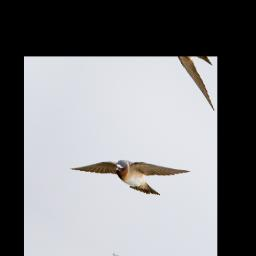Swallow: (70, 102, 193, 235)
